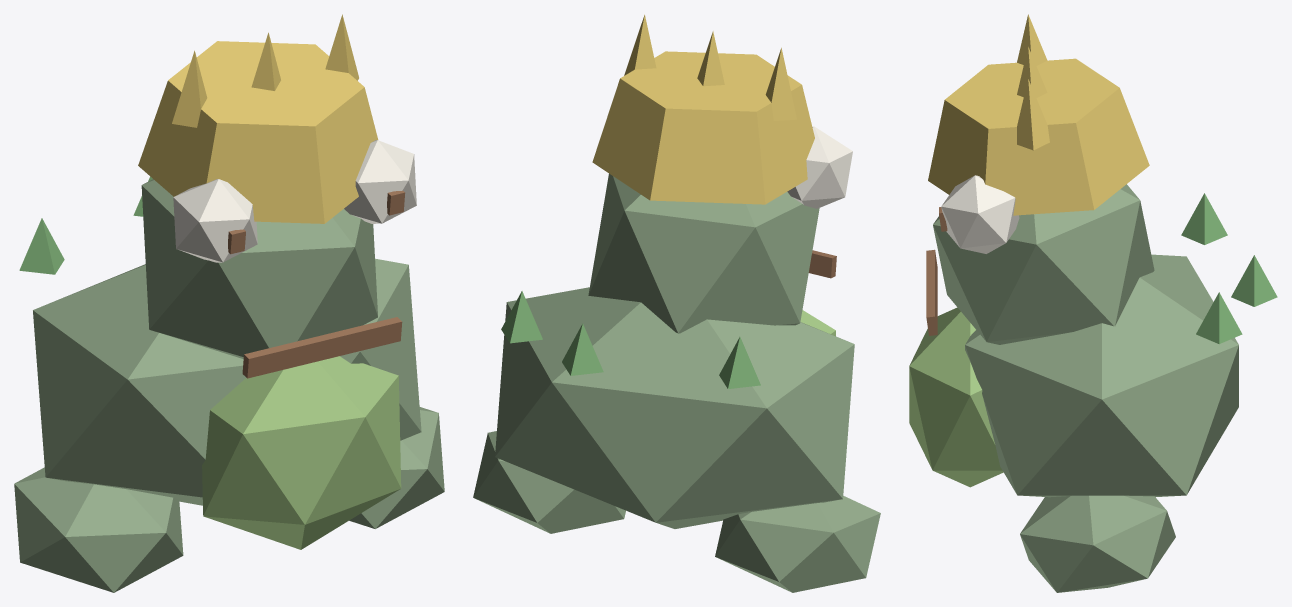
File: npcpose_toad_king_idle_03.glb
3 renders of one model, left to right at view 1: azimuth 30°, elevation 25°; view 2: azimuth 150°, elevation 25°; view 3: azimuth 270°, elevation 25°, orthographic. The views are drawn at different scales.
Visible parts, largest first — view 1: npcpose; view 2: npcpose; view 3: npcpose.
Boxes of the visible parts, x1=… form: npcpose: x1=14, y1=14, x2=444, y2=592; npcpose: x1=473, y1=14, x2=880, y2=592; npcpose: x1=909, y1=14, x2=1277, y2=592.
Bounding box in the file's own units: 1.75 × 2.19 × 1.51.
